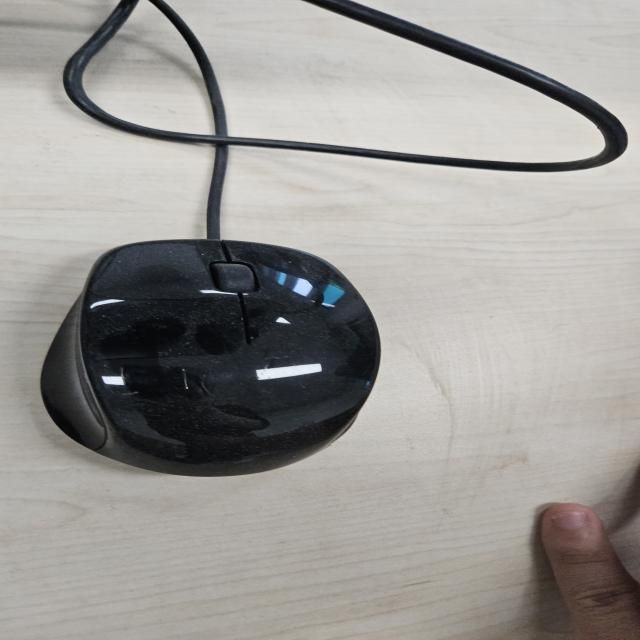Mouse: (38, 237, 384, 478)
